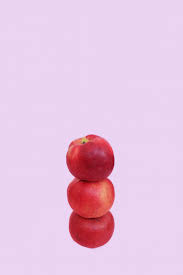apple: (64, 135, 122, 180), (60, 178, 122, 220), (63, 211, 123, 253)
